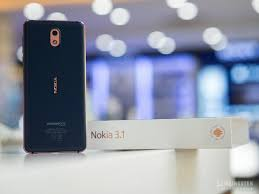nokia: (19, 18, 90, 156)
